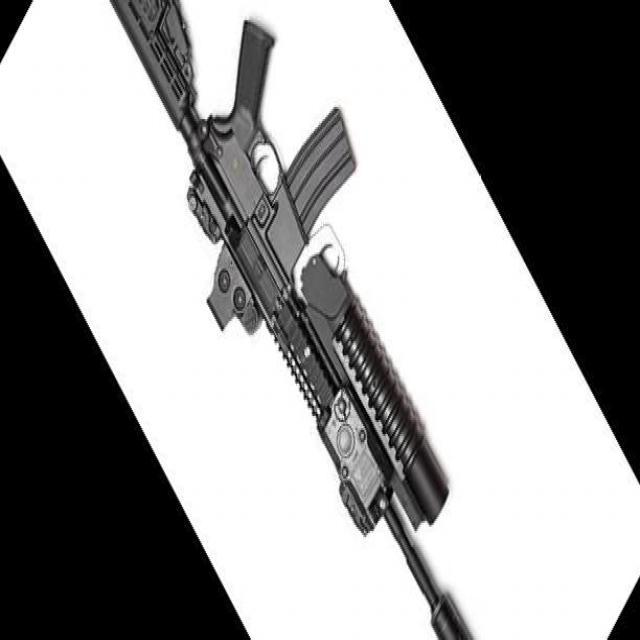weapon: (110, 0, 473, 640)
